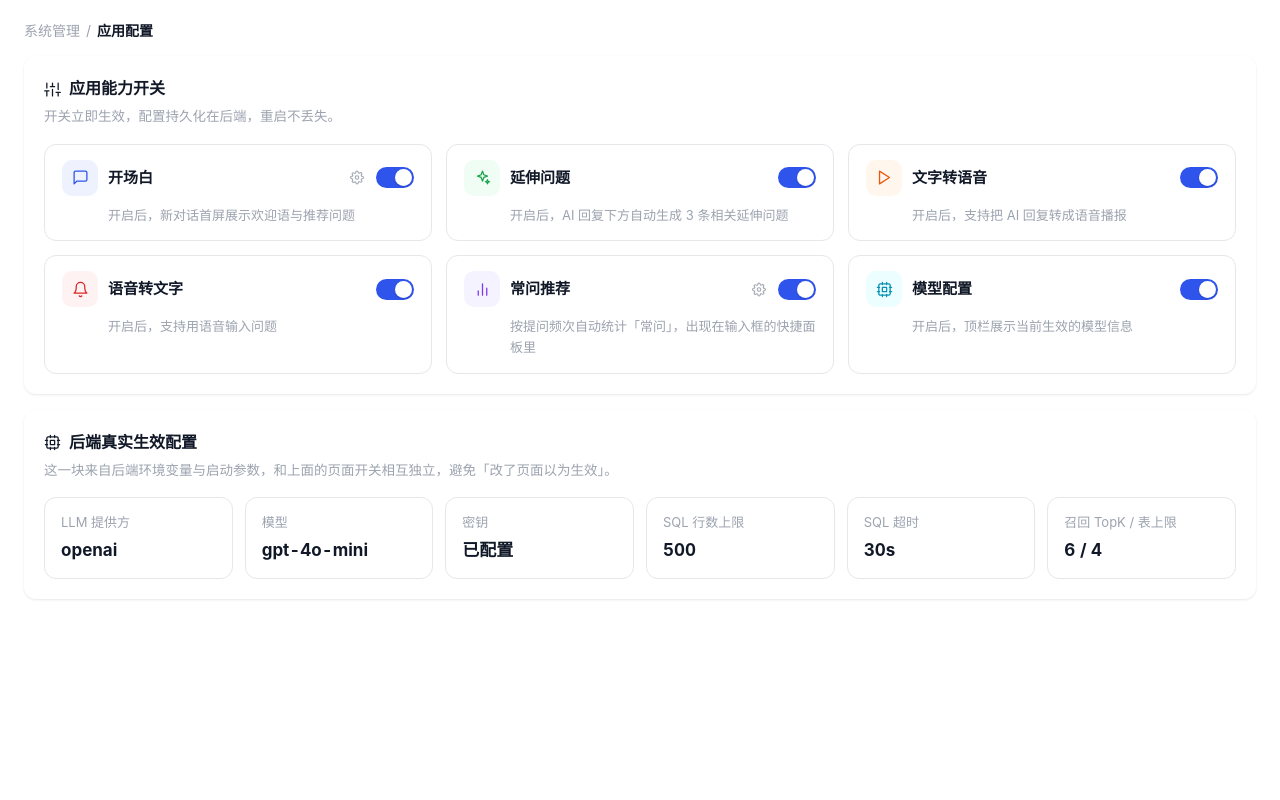
Scenario: AppConfigPage — 能力开关 › 保存失败时提示原因，并且不谎报成功
The width and height of the screenshot is (1280, 800).
What coordinates should you click on to do the following:
click the switch named "延伸问题"
I would click on:
 (797, 178)
Its box is [778,167,816,188].
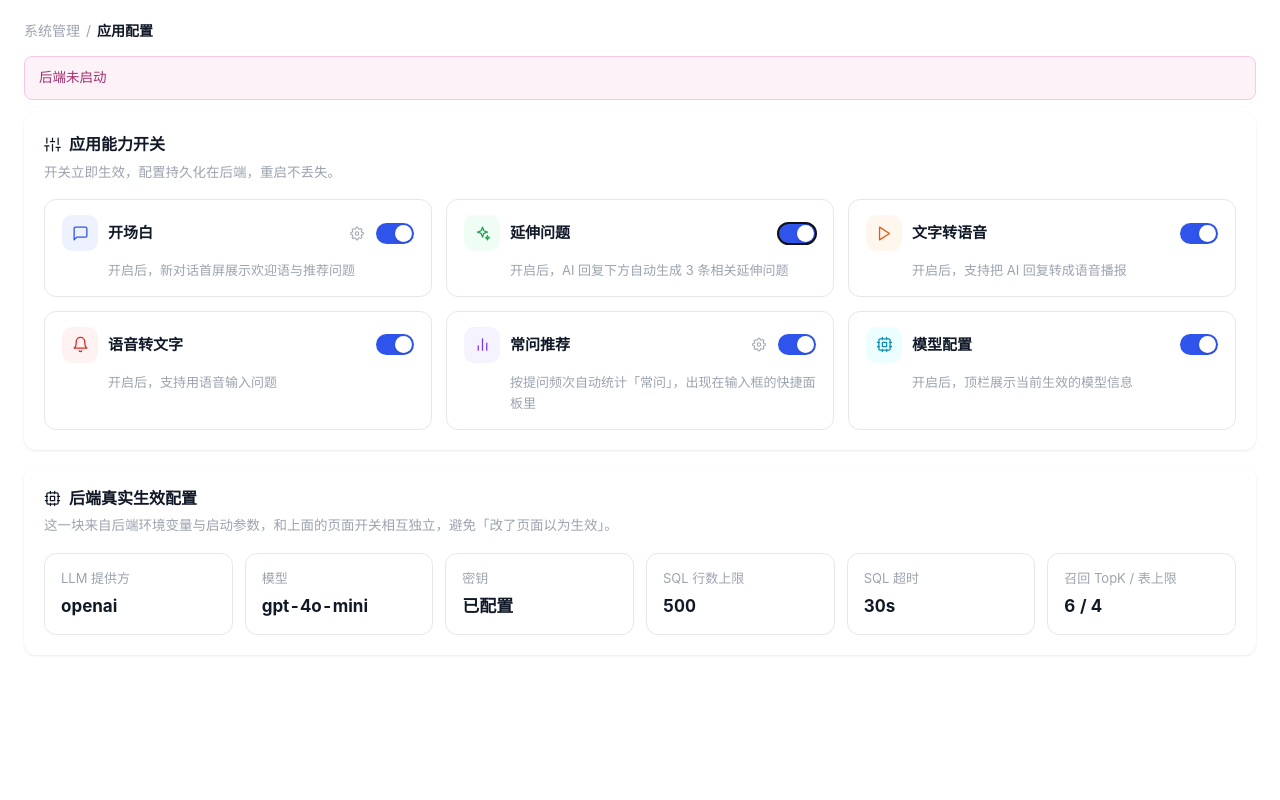
Result: the text "后端未启动" is shown at [24,56,1256,100]
